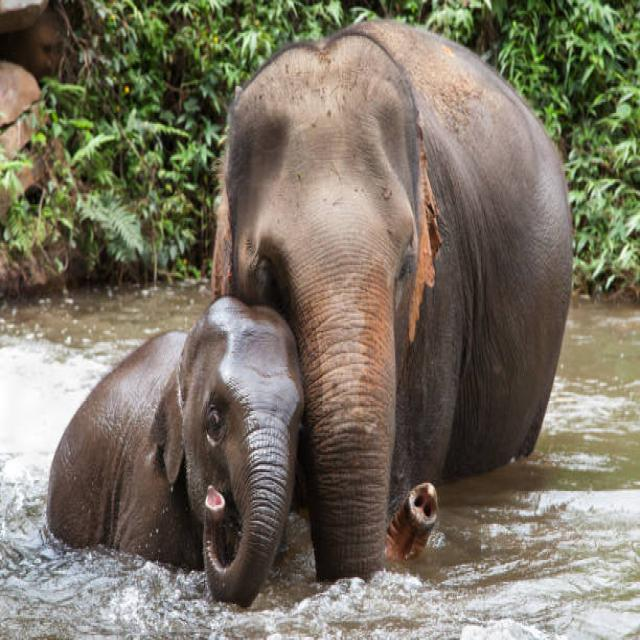Elephant: (211, 19, 583, 540), (36, 297, 308, 596)
